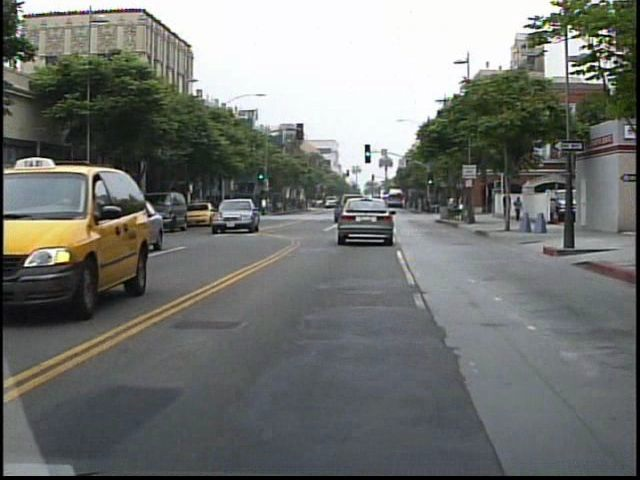person: (442, 189, 460, 220), (500, 187, 514, 226), (510, 192, 523, 224), (261, 194, 271, 219)
